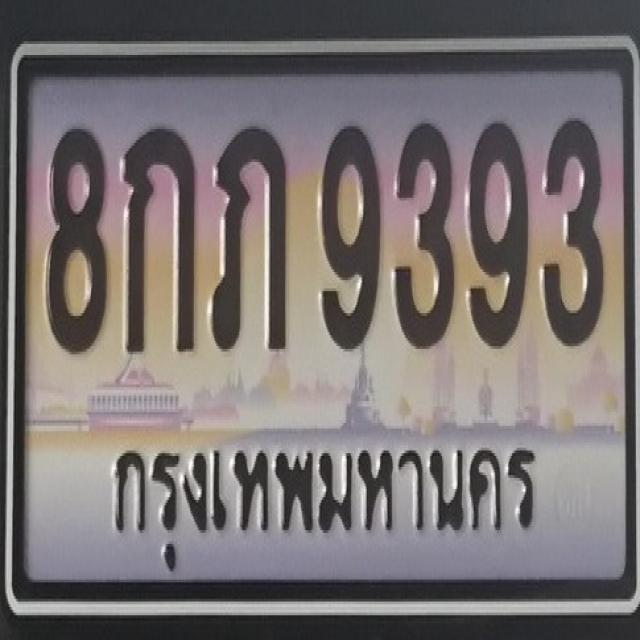license_plate: (8, 37, 640, 614)
